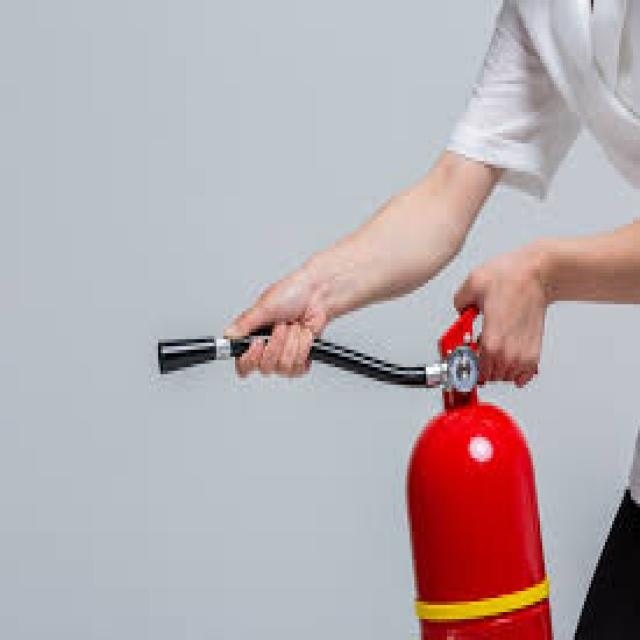pressure gauge: (447, 347, 479, 391)
